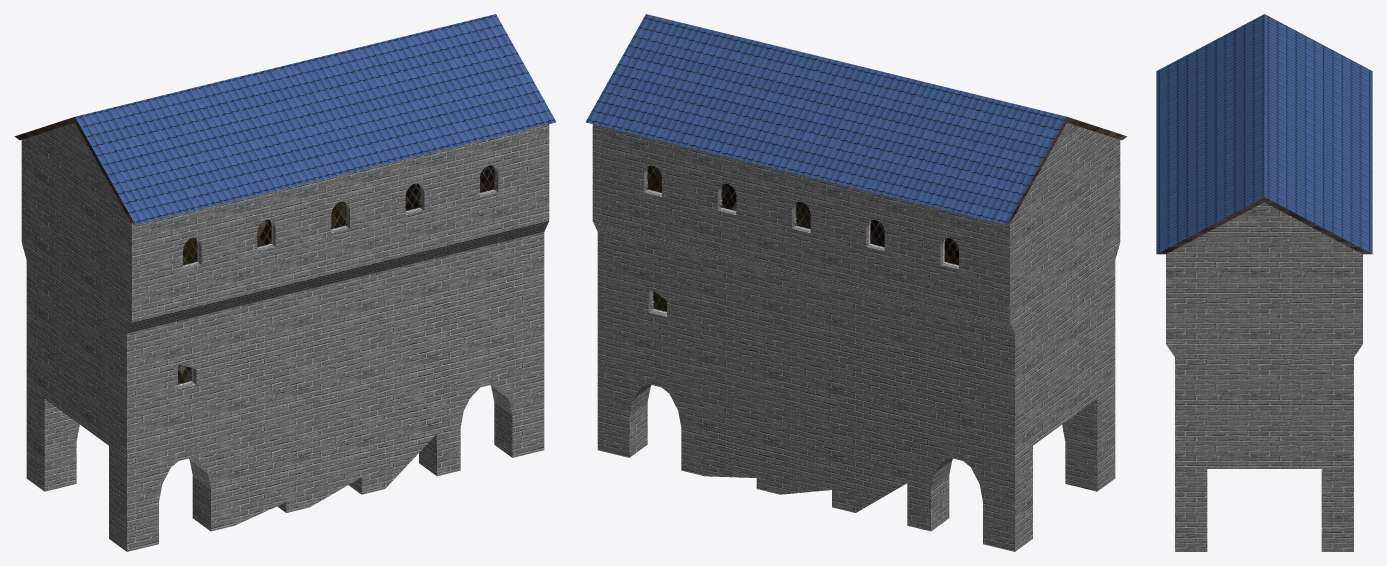
Rendered from HouseArchway.fbx.
3 renders of one model, left to right at view 1: azimuth 30°, elevation 25°; view 2: azimuth 150°, elevation 25°; view 3: azimuth 270°, elevation 25°, orthographic. The views are drawn at different scales.
Parts seen in each view (by area): view 1: HouseArchway; view 2: HouseArchway; view 3: HouseArchway.
Part boxes in pixels (x1,y1,x2,y2): HouseArchway: [14, 14, 556, 551]; HouseArchway: [585, 14, 1127, 551]; HouseArchway: [1156, 14, 1372, 551].
Size of the model in its own units: 2270 by 2055 by 1131.
